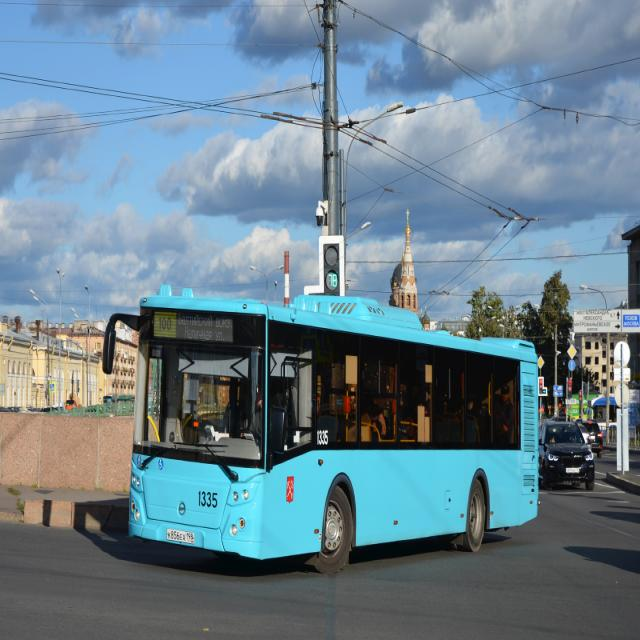number-of-bus: (156, 313, 175, 335)
